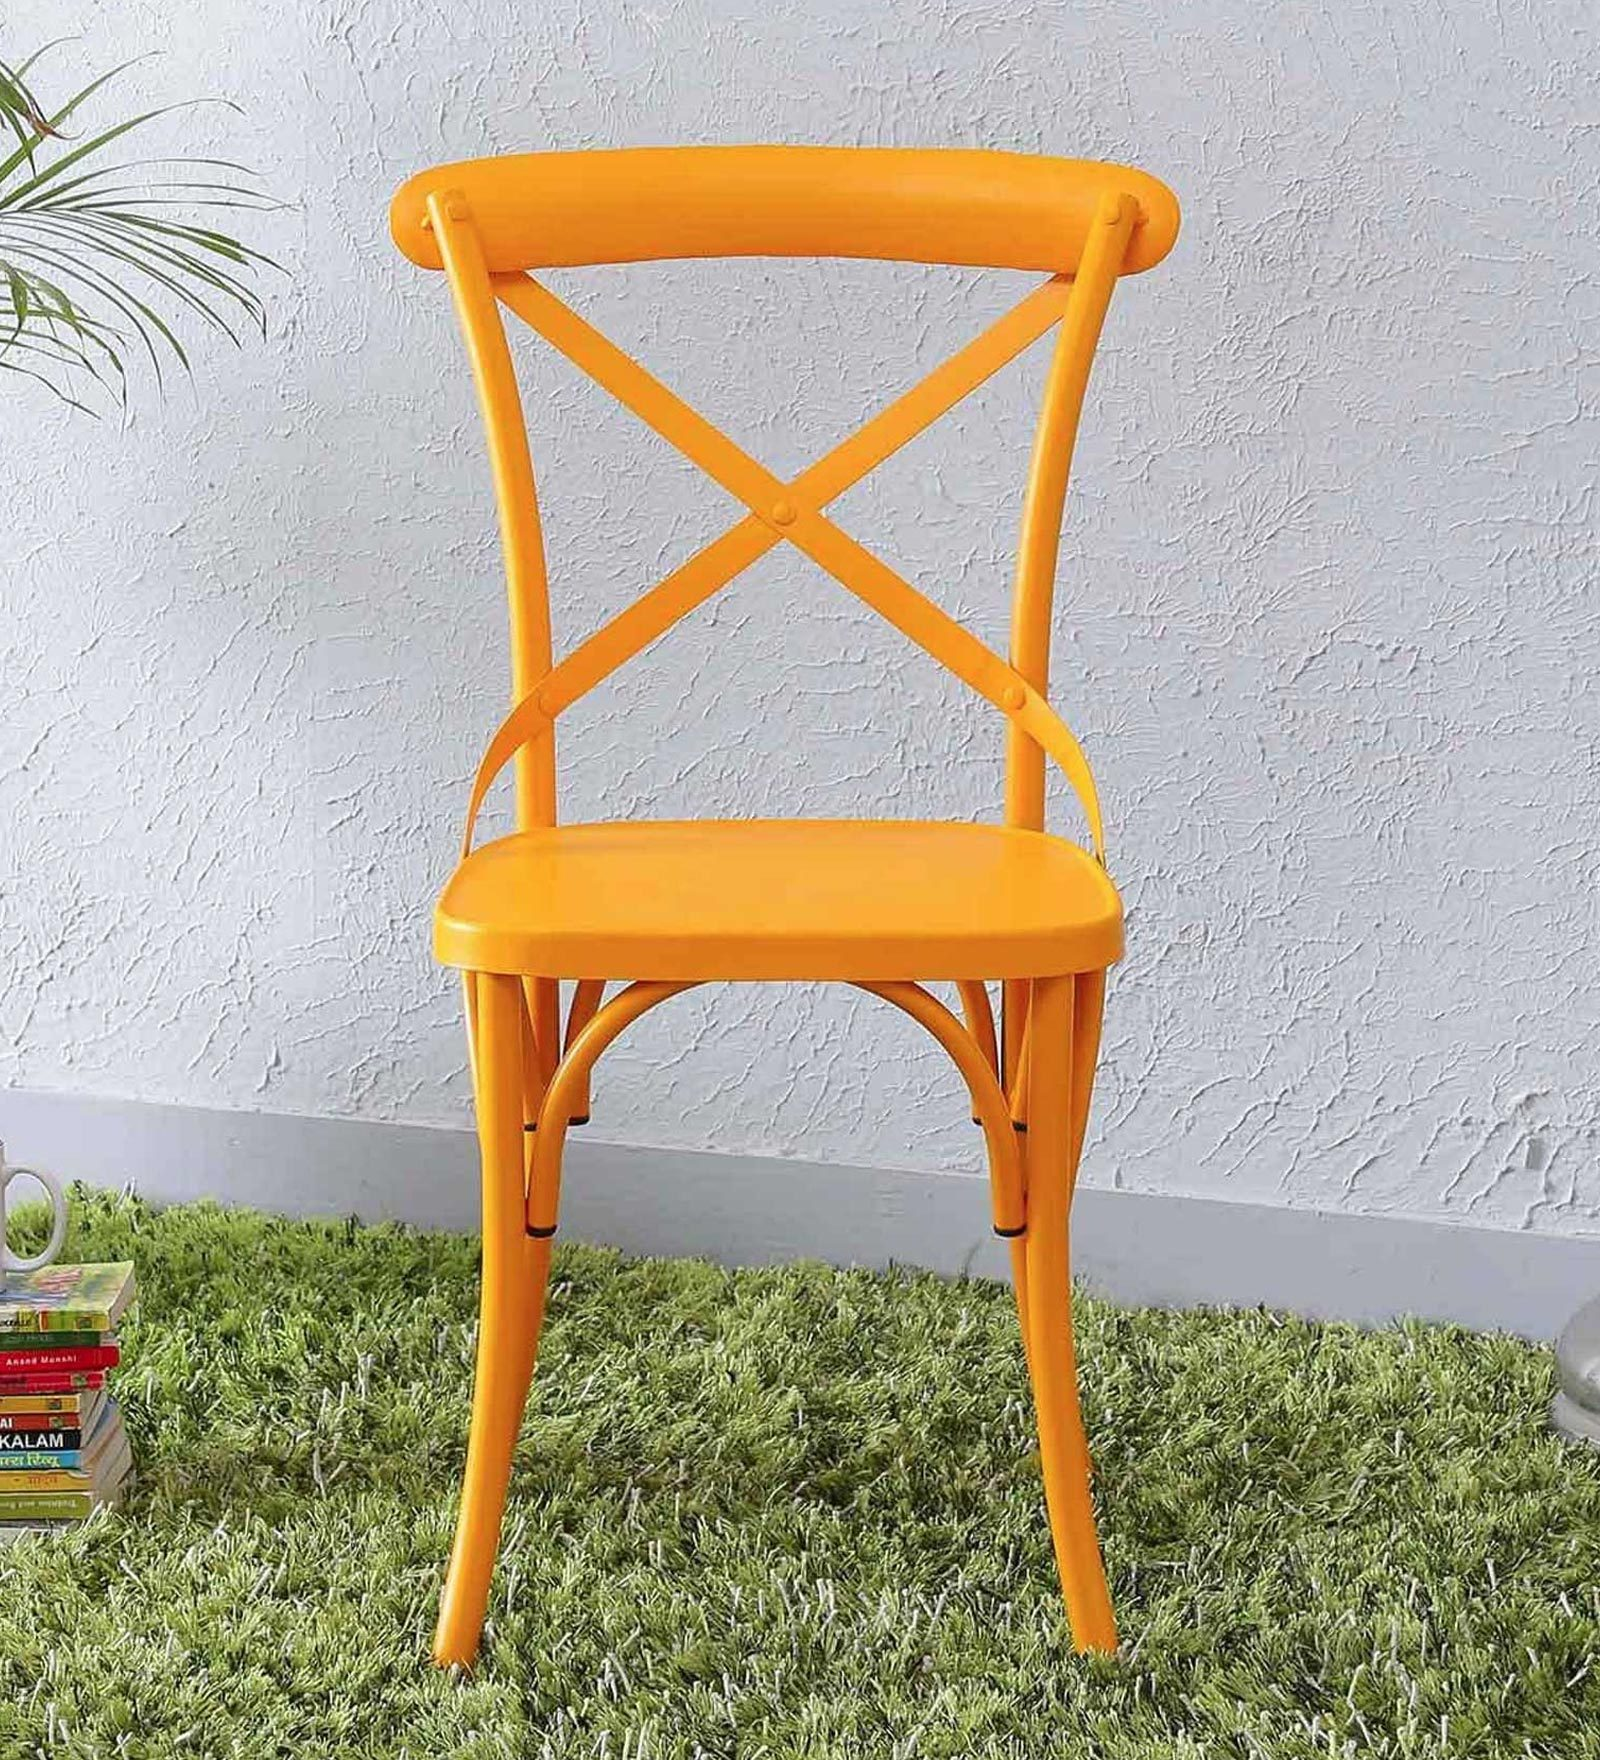Fabian Metal Chair in Yellow Color by Bohemiana: (352, 109, 1293, 1706)
